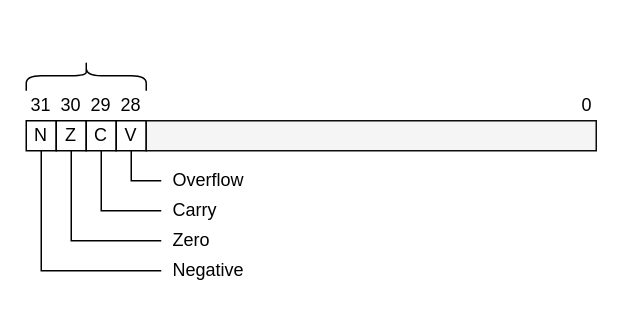
The diagram is 629 pixels wide and 311 high, and some of its shapes have lost their labels. Here are the shapes that lost their labels. From the top down, the centre of each, then its label:
At (85,75): "Condition field".
At (370,135): "Rest of the ARM instruction encoding".
